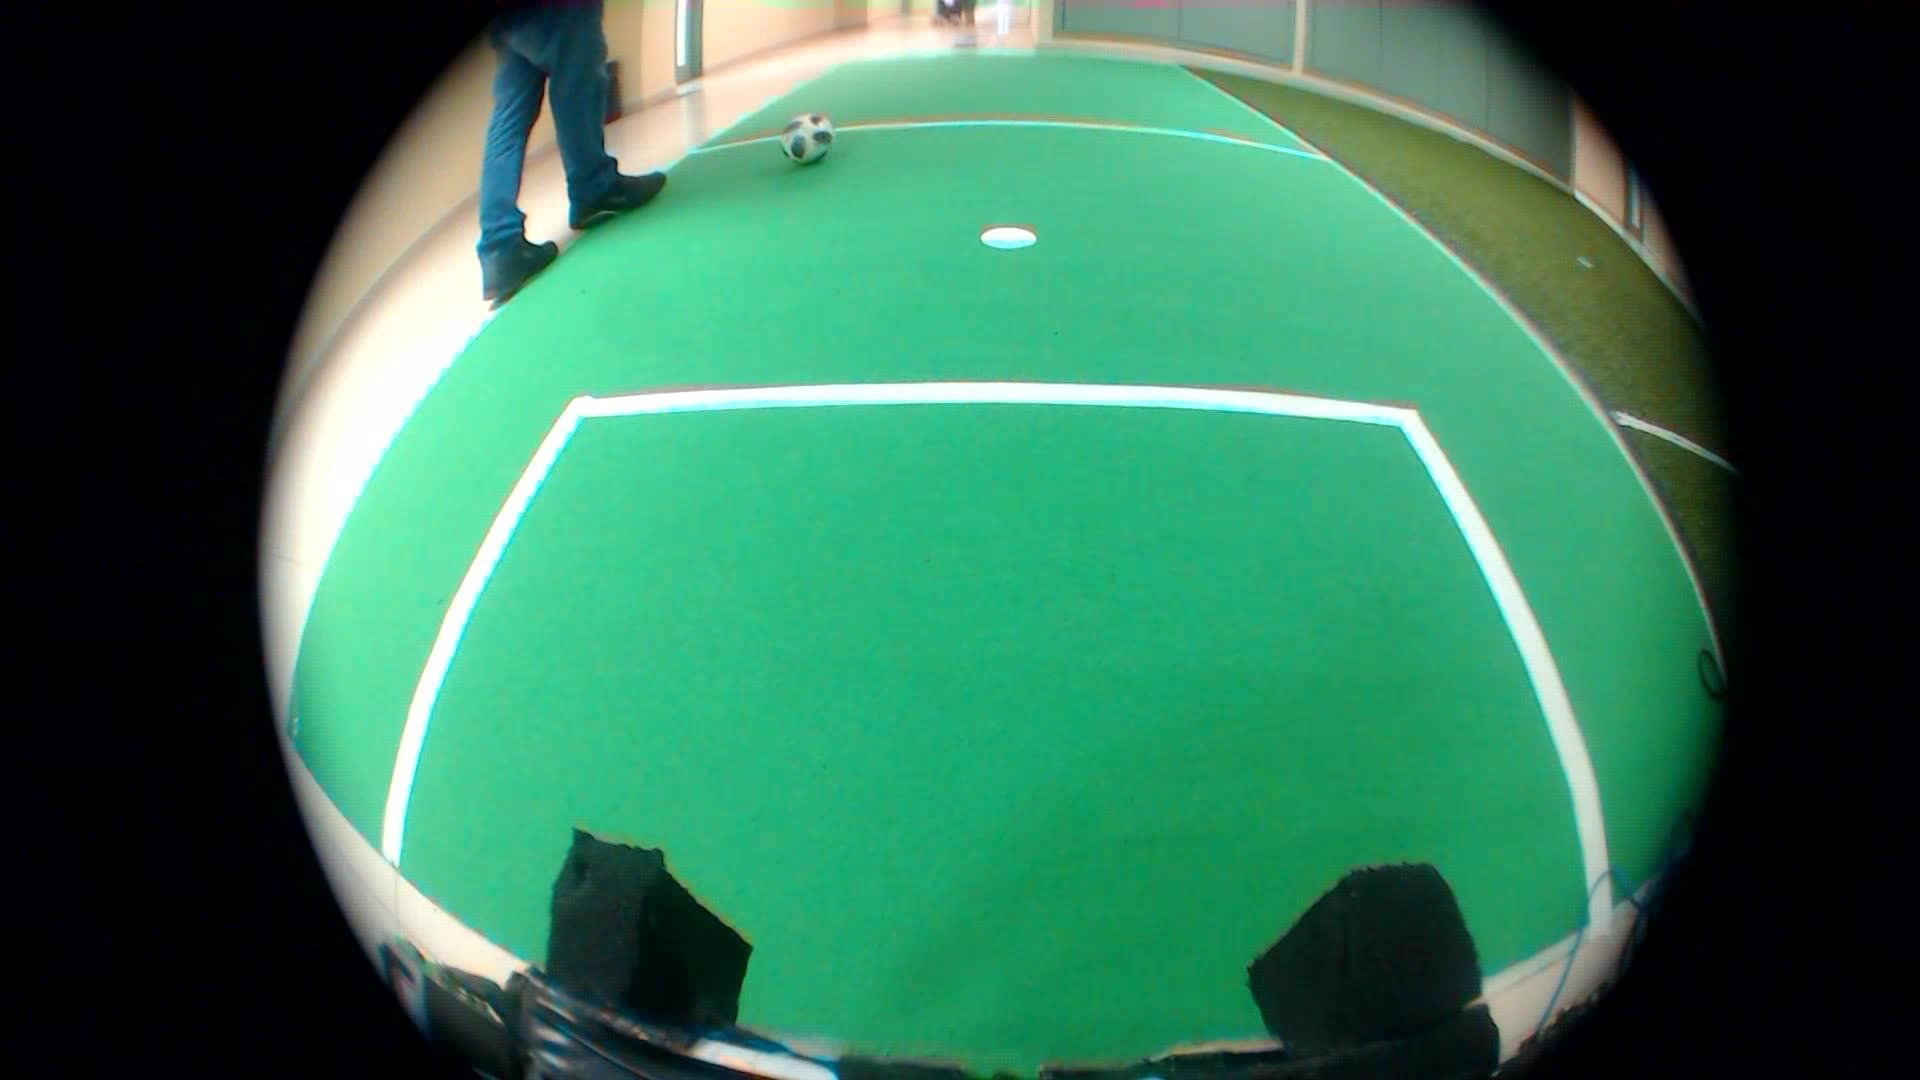ball: (770, 103, 841, 173)
